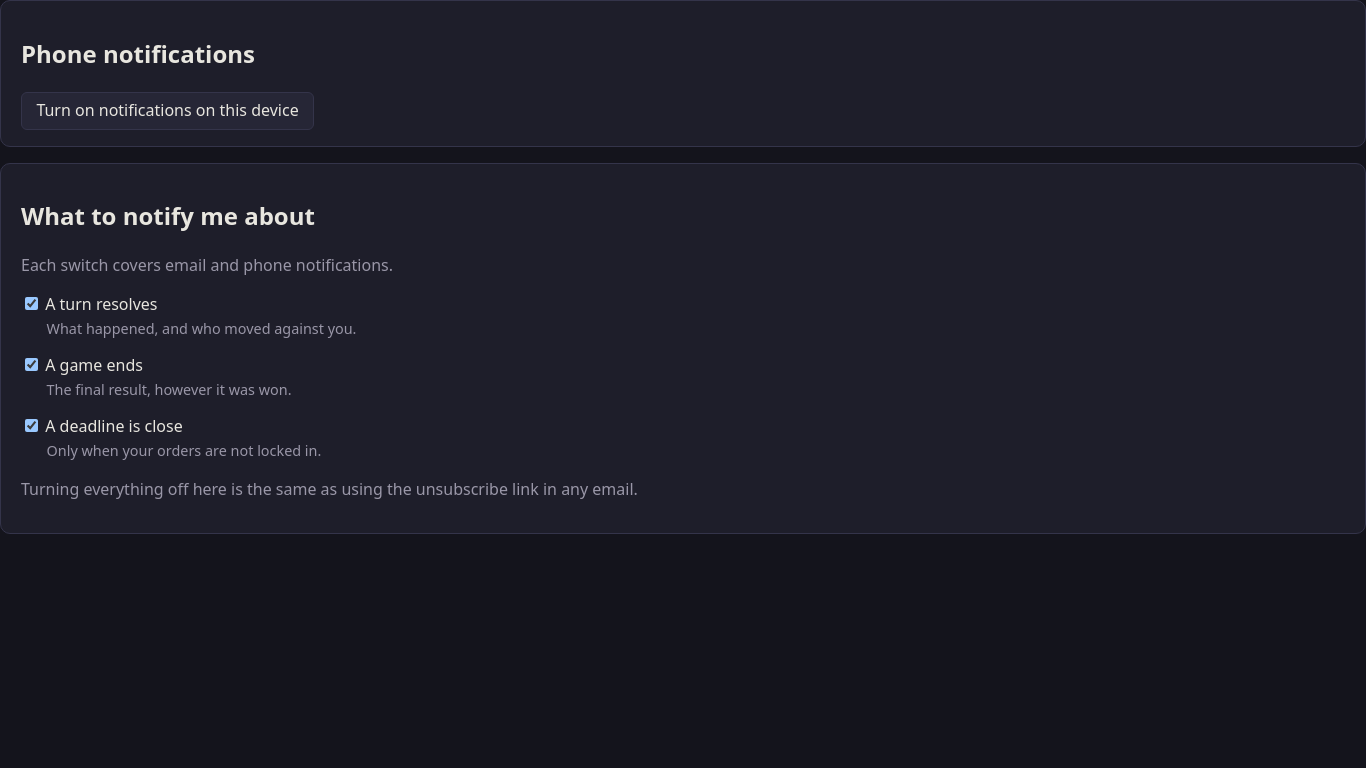
Settings › restores the checkbox and explains when saving fails
Click the checkbox labelled "A deadline is close". click: {"x": 32, "y": 426}
box: top-left (25, 419), bottom-right (38, 432)
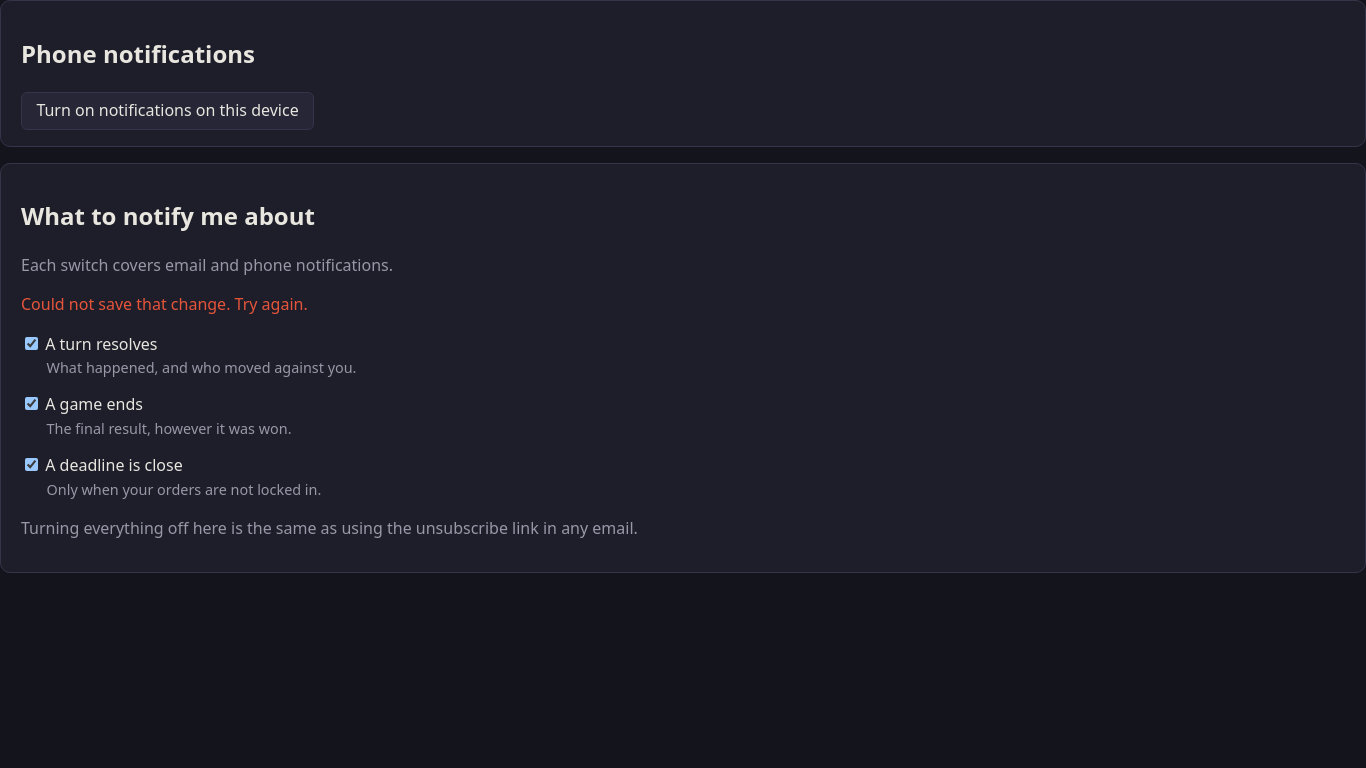
expect the checkbox labelled "A deadline is close" is checked: met, box top-left (25, 458), bottom-right (38, 471)
expect the text "Could not save that change. Try again." is shown: met, box top-left (21, 293), bottom-right (308, 315)
